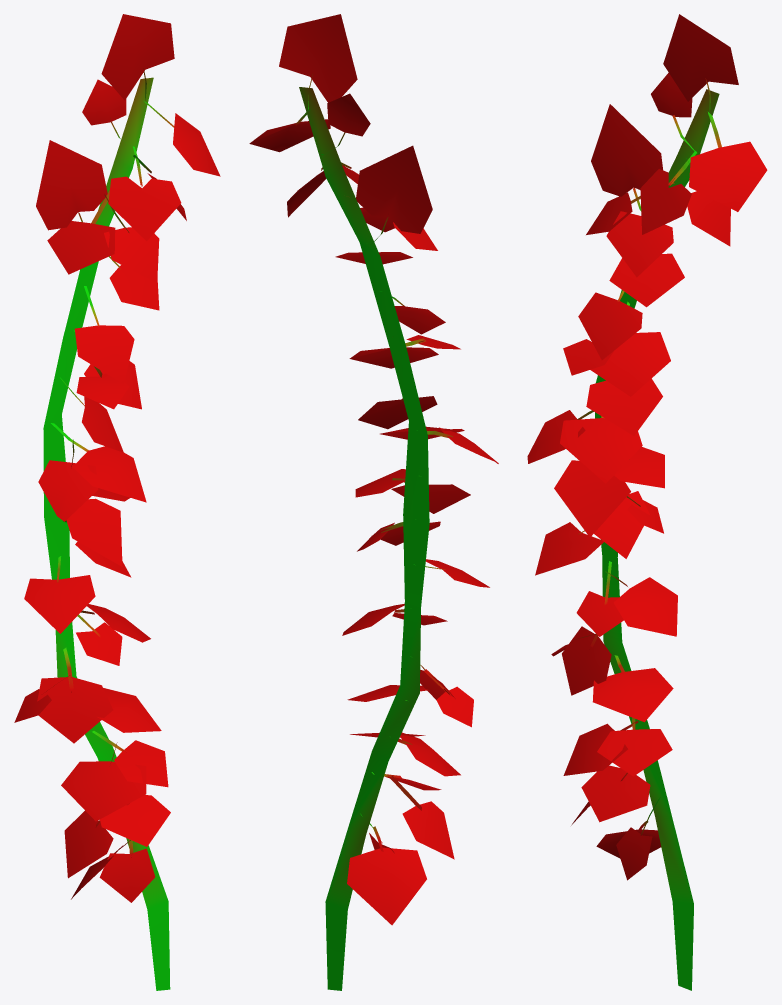
File: Var12_LOD3.fbx
3 views of the same model, side by side, from view 1: azimuth 30°, elevation 25°; view 2: azimuth 150°, elevation 25°; view 3: azimuth 330°, elevation 25° (orthographic). The views are drawn at different scales.
Parts seen in each view (by area): view 1: _m9st_Var12_LOD3; view 2: _m9st_Var12_LOD3; view 3: _m9st_Var12_LOD3.
Part boxes in pixels (left/top/right/bottom): _m9st_Var12_LOD3: left=14, top=14, right=220, bottom=990; _m9st_Var12_LOD3: left=249, top=14, right=498, bottom=990; _m9st_Var12_LOD3: left=527, top=14, right=767, bottom=990.
Size of the model in its own units: 16.48 by 75.83 by 8.93.
